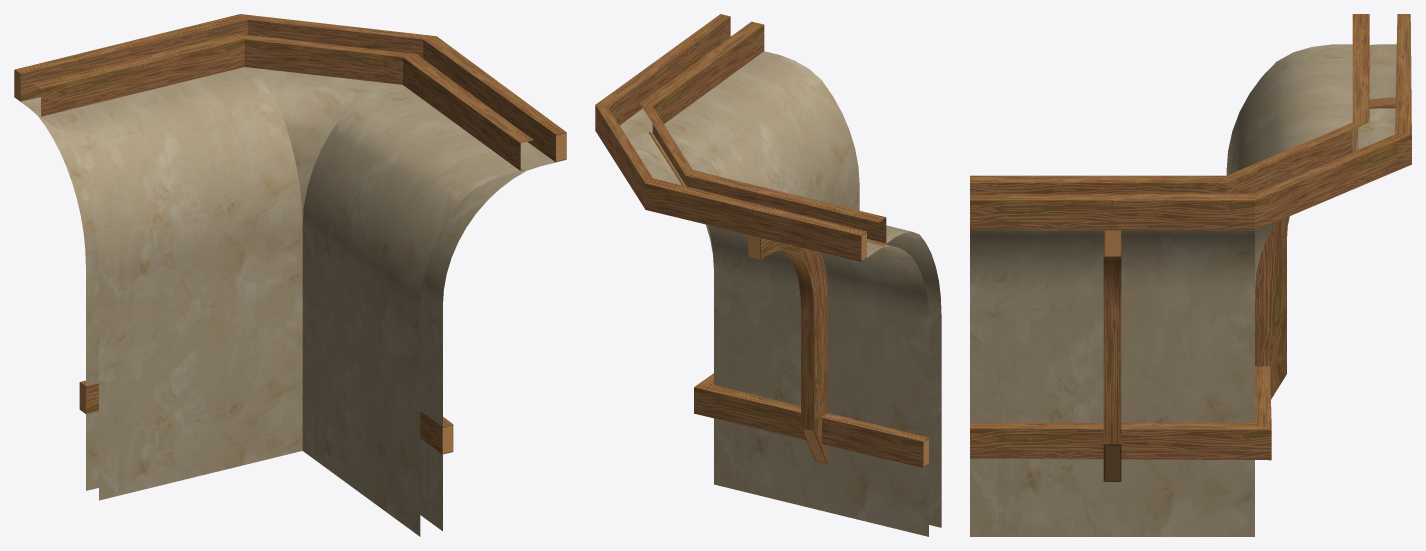
Rendered from Overhang_Plaster_Corner.gltf.
The picture shows the model from 3 angles, left to right: view 1: azimuth 30°, elevation 25°; view 2: azimuth 150°, elevation 25°; view 3: azimuth 270°, elevation 25°; orthographic projection. The views are drawn at different scales.
Visible parts, largest first — view 1: Overhang_Plaster_Corner; view 2: Overhang_Plaster_Corner; view 3: Overhang_Plaster_Corner.
Boxes of the visible parts, x1,y1,x2,y2 form: Overhang_Plaster_Corner: (14,14,566,536); Overhang_Plaster_Corner: (595,14,941,536); Overhang_Plaster_Corner: (970,14,1411,536).
Size of the model in its own units: 3.1 by 3.12 by 3.1.
Materials: 2 (2 with a texture image).
